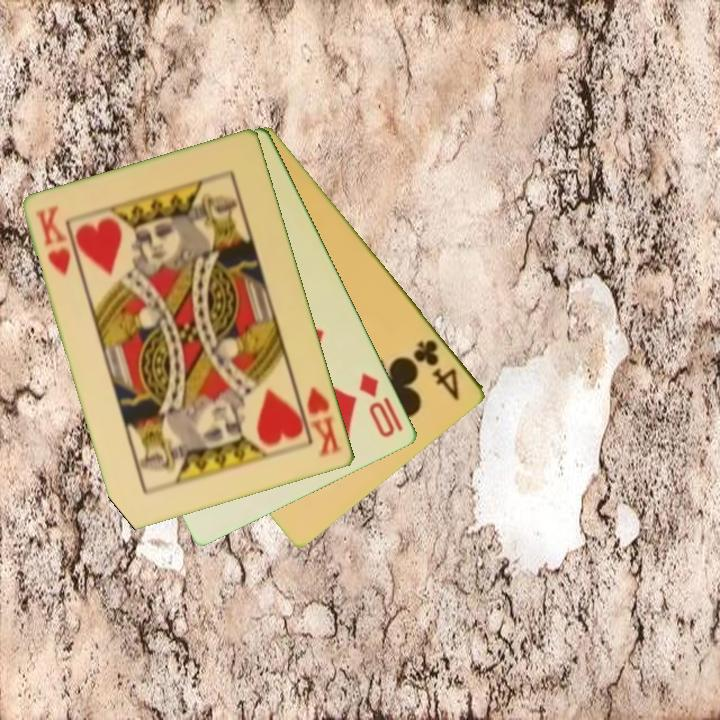10d: (356, 370, 399, 441)
4c: (410, 336, 464, 403)
Kh: (294, 383, 346, 459), (32, 202, 75, 279)
